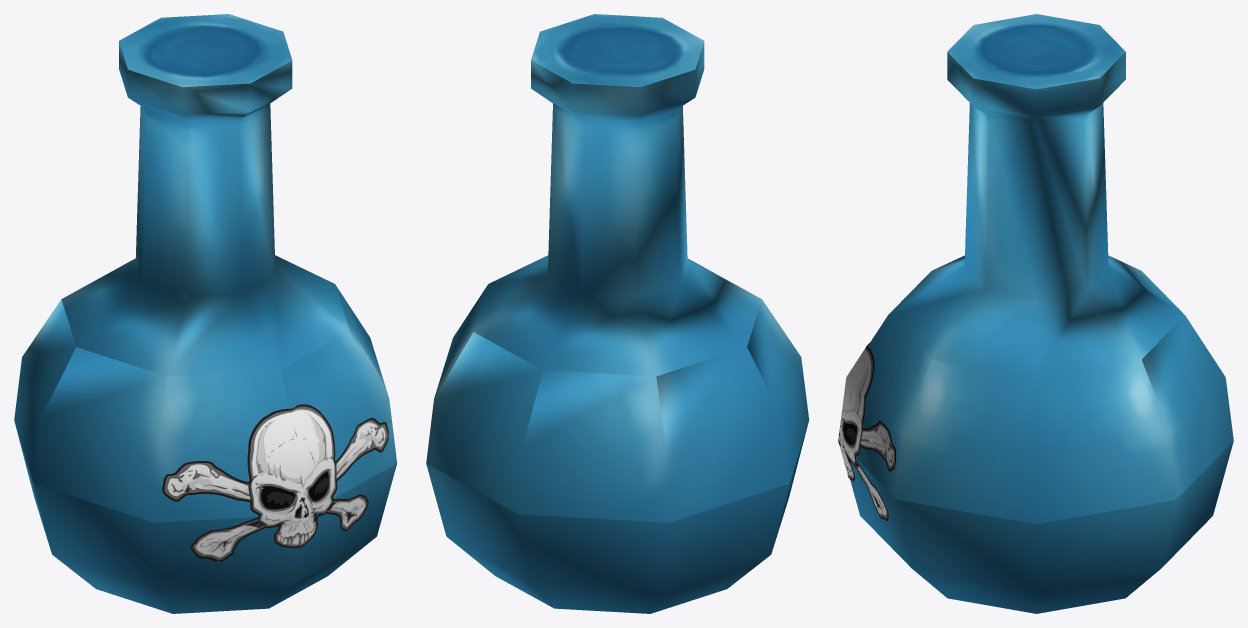
File: SM_Bottle.FBX
3 renders of one model, left to right at view 1: azimuth 30°, elevation 25°; view 2: azimuth 150°, elevation 25°; view 3: azimuth 270°, elevation 25°, orthographic.
Parts seen in each view (by area): view 1: Vessel, Vessel02; view 2: Vessel; view 3: Vessel, Vessel02.
Part boxes in pixels (bbox=[...]): Vessel: bbox=[14, 14, 397, 613]; Vessel02: bbox=[162, 404, 388, 561]; Vessel: bbox=[426, 14, 808, 613]; Vessel: bbox=[850, 14, 1233, 613]; Vessel02: bbox=[838, 343, 895, 521].
Size of the model in its own units: 20.68 by 30.59 by 20.74.
